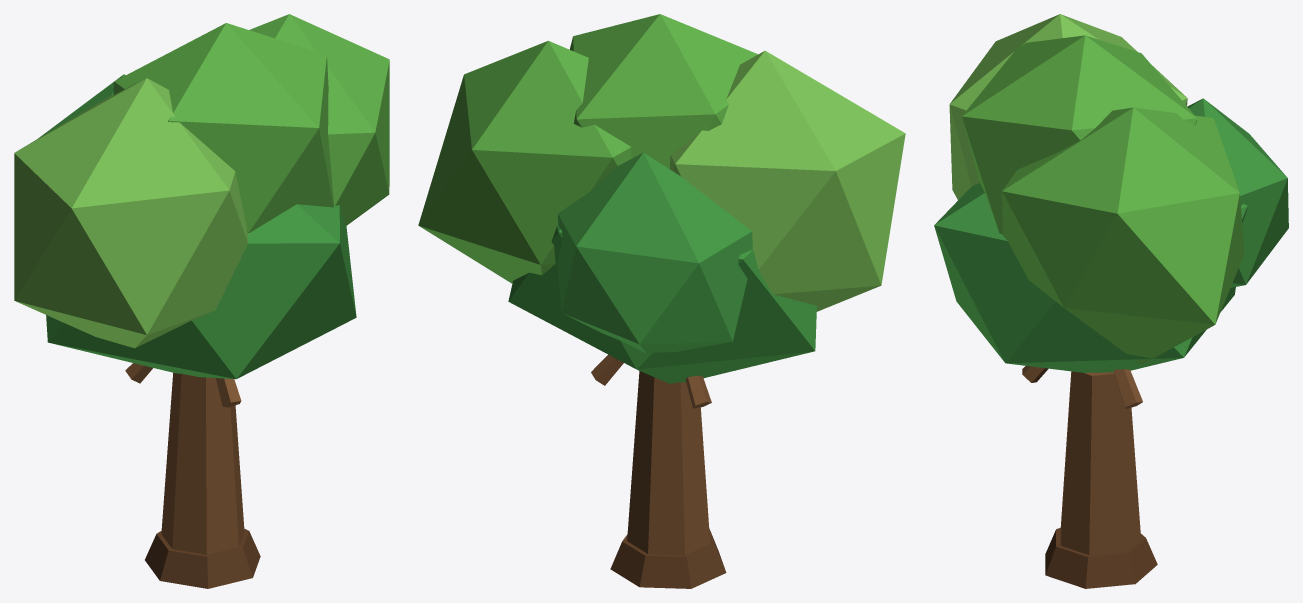
File: prop_tree_round_v01.glb
The picture shows the model from 3 angles, left to right: view 1: azimuth 30°, elevation 25°; view 2: azimuth 150°, elevation 25°; view 3: azimuth 270°, elevation 25°; orthographic projection.
Visible parts, largest first — view 1: prop_tree_round_v01; view 2: prop_tree_round_v01; view 3: prop_tree_round_v01.
Boxes of the visible parts, x1,y1,x2,y2 form: prop_tree_round_v01: [14, 14, 389, 588]; prop_tree_round_v01: [418, 14, 905, 588]; prop_tree_round_v01: [934, 14, 1288, 588].
Bounding box in the file's own units: 3.07 × 4.01 × 2.4.
